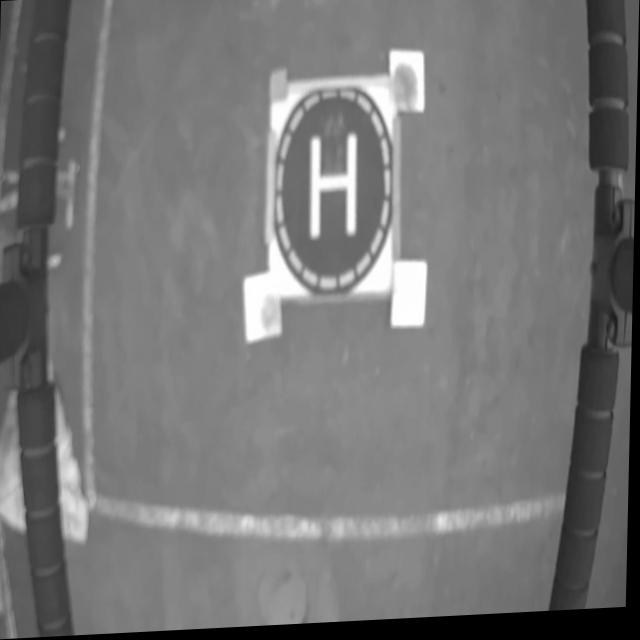Helipad: (311, 138, 358, 238)
